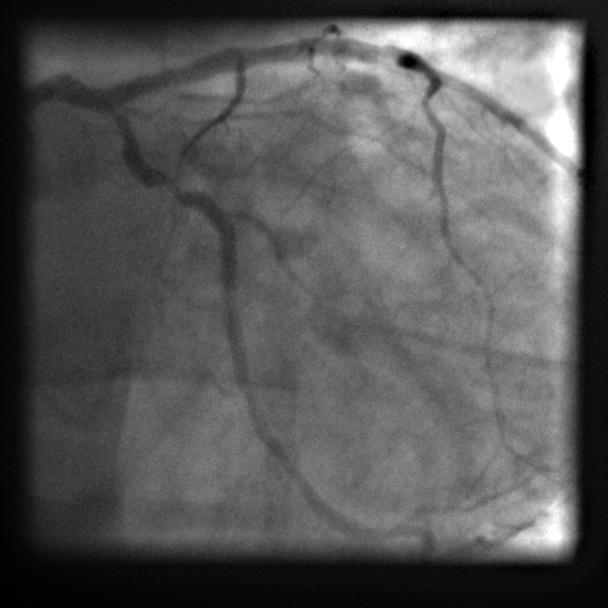Stenosis: (162, 176, 182, 199)
